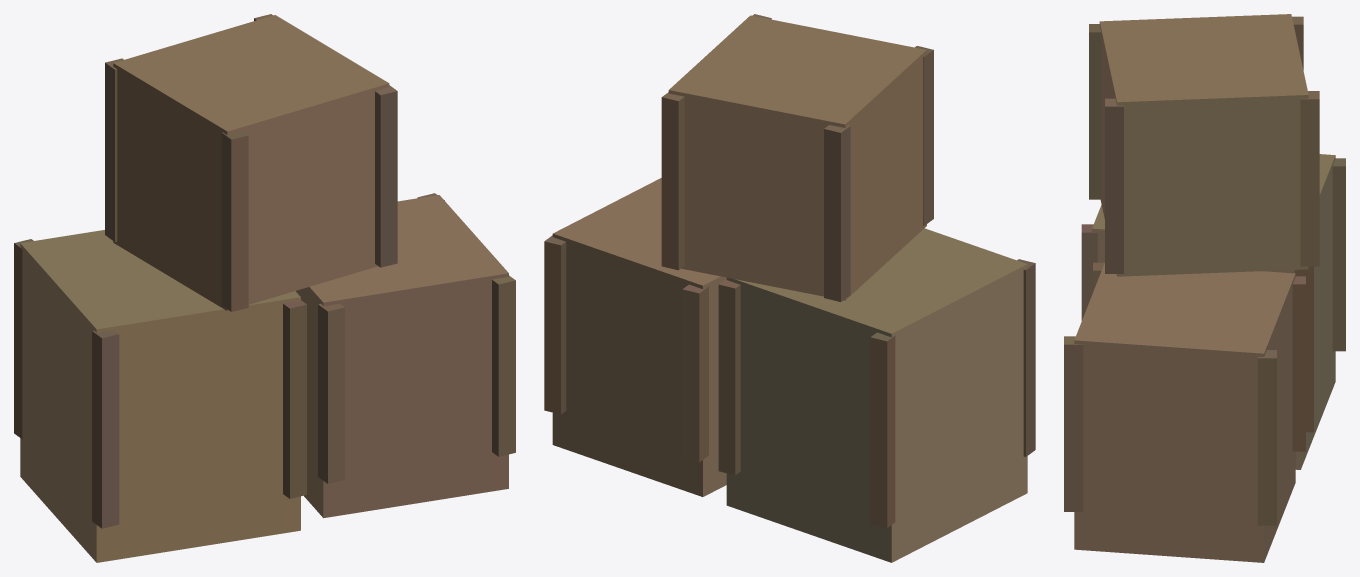
The model's file is Piece_Crates.glb.
3 renders of one model, left to right at view 1: azimuth 30°, elevation 25°; view 2: azimuth 150°, elevation 25°; view 3: azimuth 270°, elevation 25°, orthographic. The views are drawn at different scales.
Parts seen in each view (by area): view 1: Piece_Crates; view 2: Piece_Crates; view 3: Piece_Crates.
Boxes of the visible parts, x1=… form: Piece_Crates: x1=14, y1=14, x2=515, y2=562; Piece_Crates: x1=544, y1=14, x2=1035, y2=562; Piece_Crates: x1=1064, y1=14, x2=1345, y2=562.
Size of the model in its own units: 2.43 by 2.3 by 1.47.
